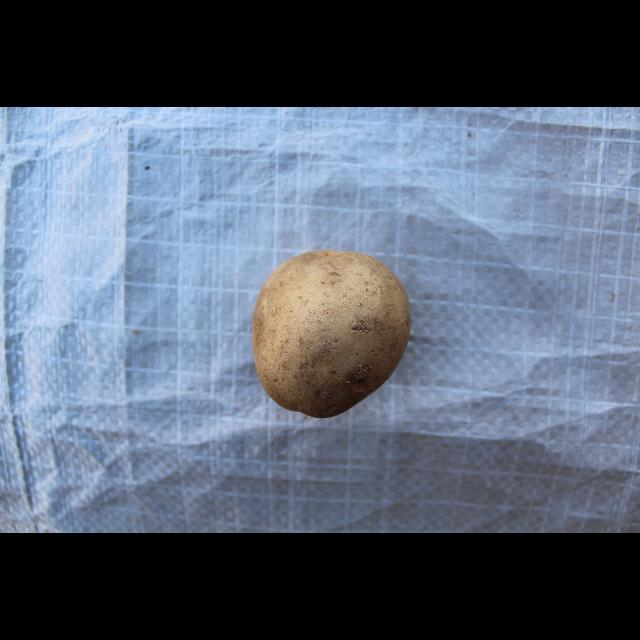Diseased-fungal potato: (245, 245, 417, 422)
